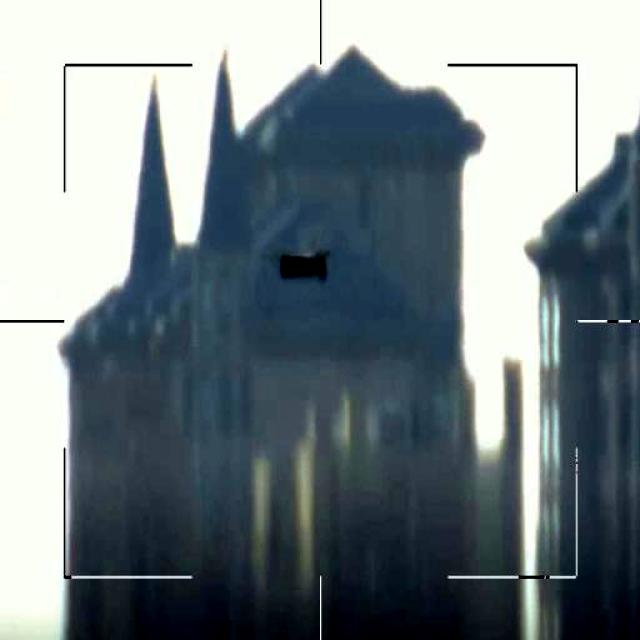bird: (279, 252, 326, 284)
